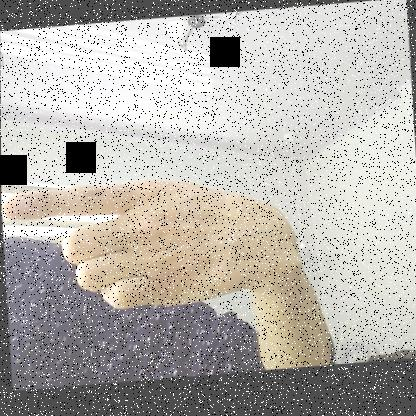G: (2, 169, 298, 317)
